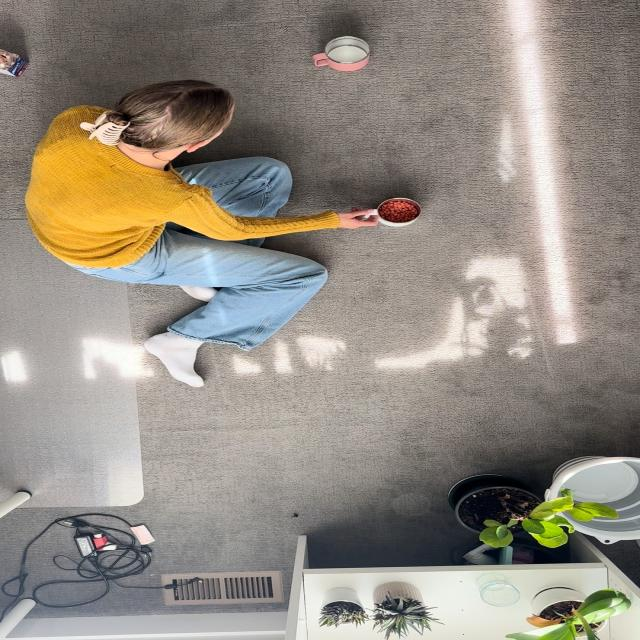IBC: (312, 36, 370, 72), (377, 198, 421, 227)
